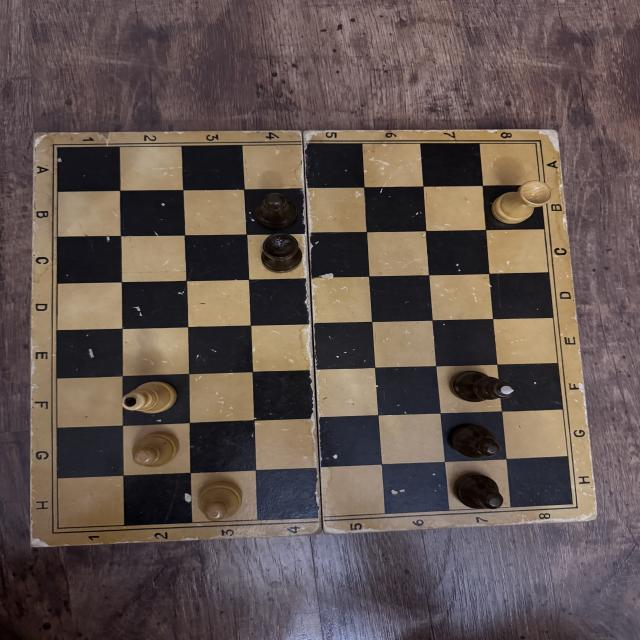black-king: (449, 368, 518, 404)
black-pawn: (451, 470, 505, 512), (447, 421, 503, 460), (248, 192, 300, 230)
black-rook: (259, 232, 306, 274)
white-king: (121, 381, 178, 414)
white-pawn: (131, 432, 178, 468), (199, 484, 242, 522)
white-rook: (489, 180, 553, 226)
